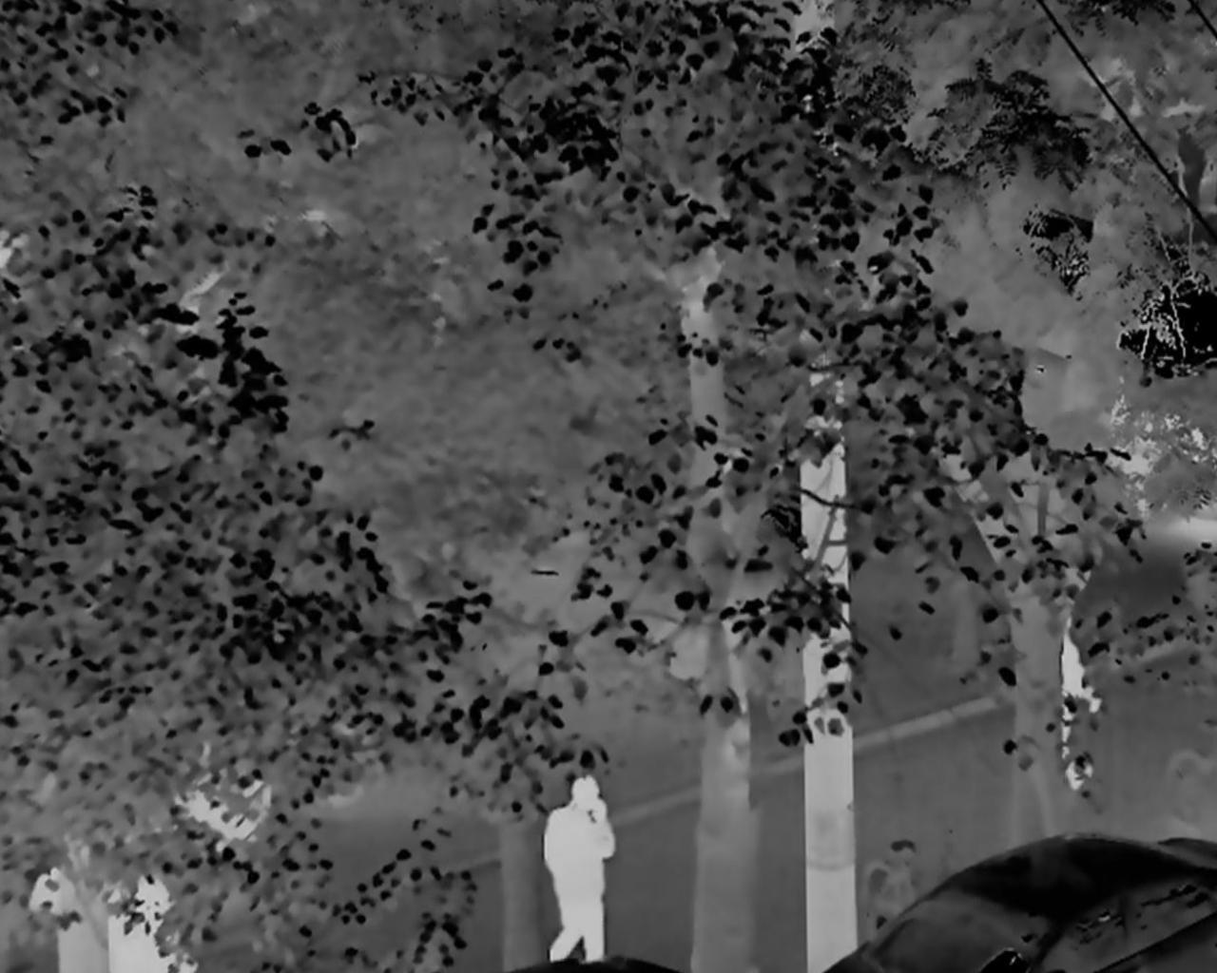person: (543, 769, 616, 973)
